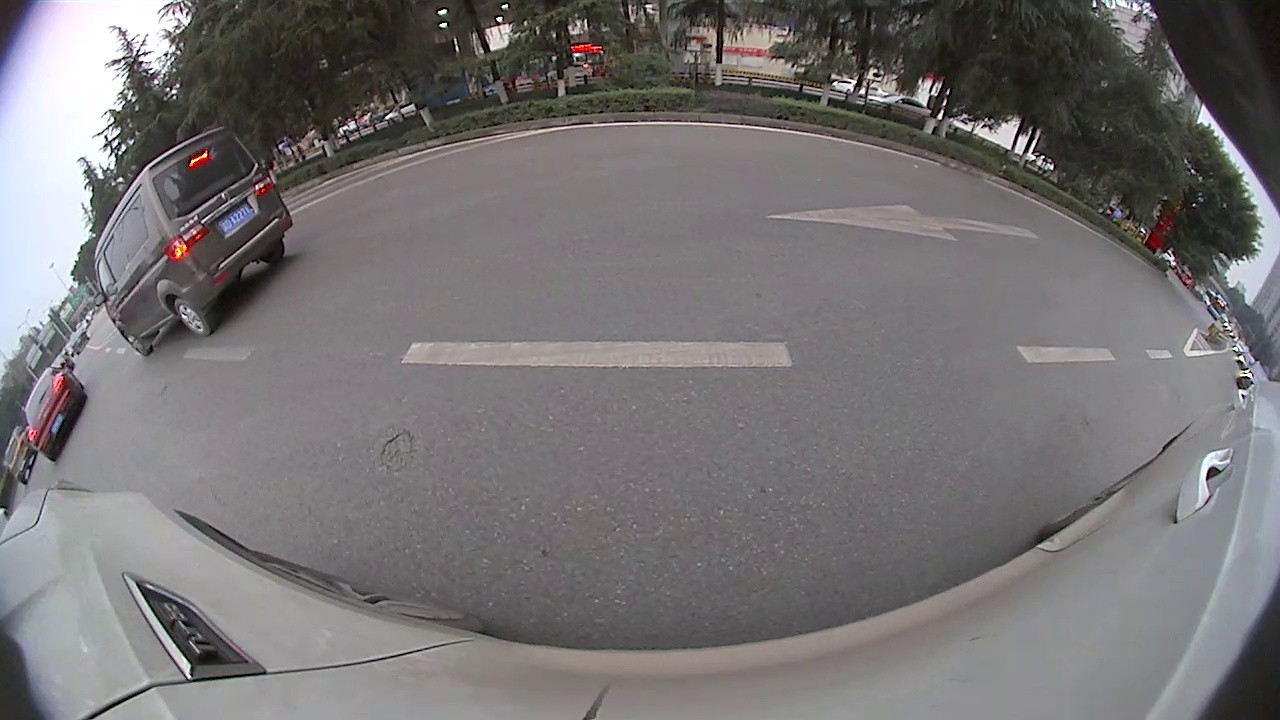car: (93, 124, 295, 358), (19, 359, 90, 460)
front: (120, 329, 152, 357)
rear: (172, 296, 211, 339)
